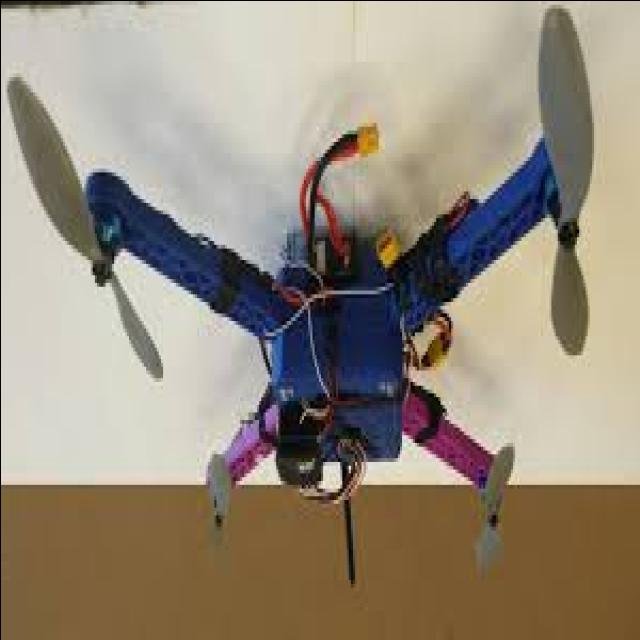drone: (16, 1, 598, 574)
